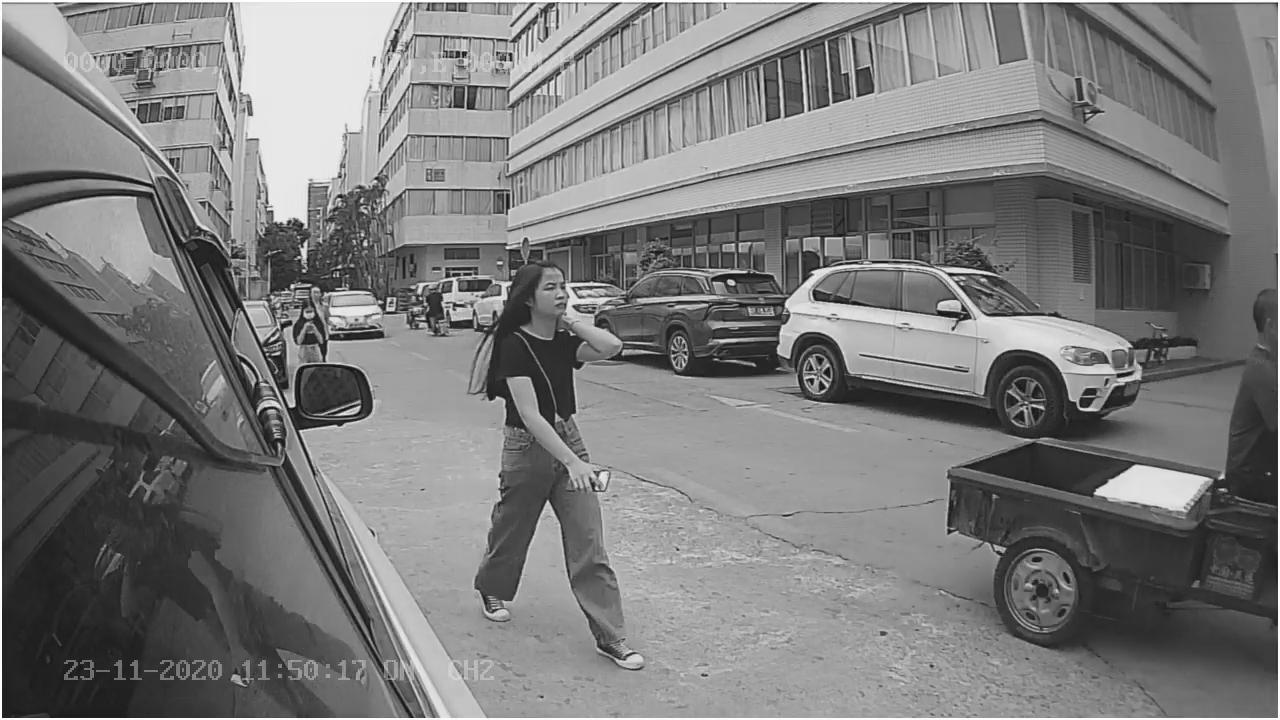person: (471, 257, 650, 670)
